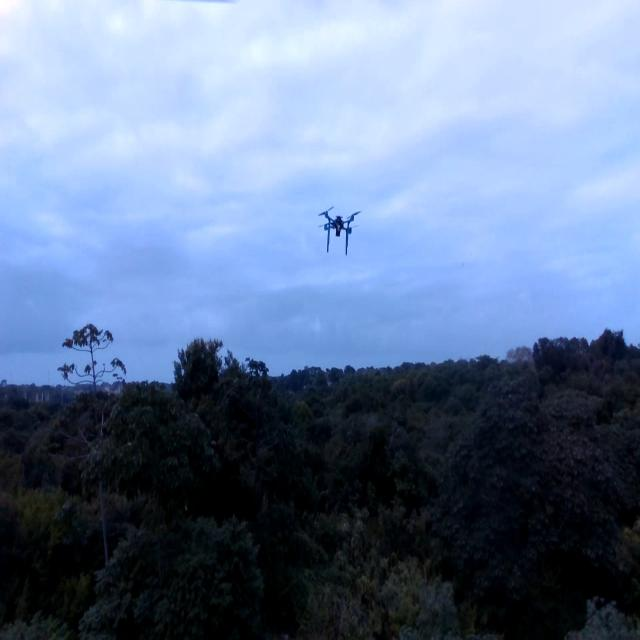-uav-: (308, 193, 371, 277)
